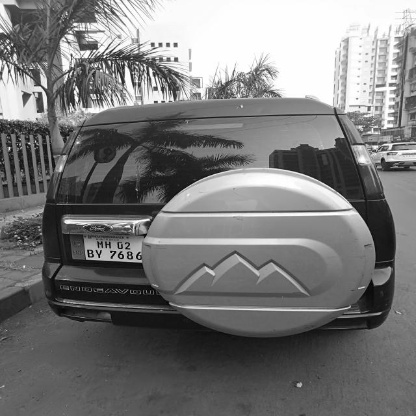car: (36, 96, 405, 339)
